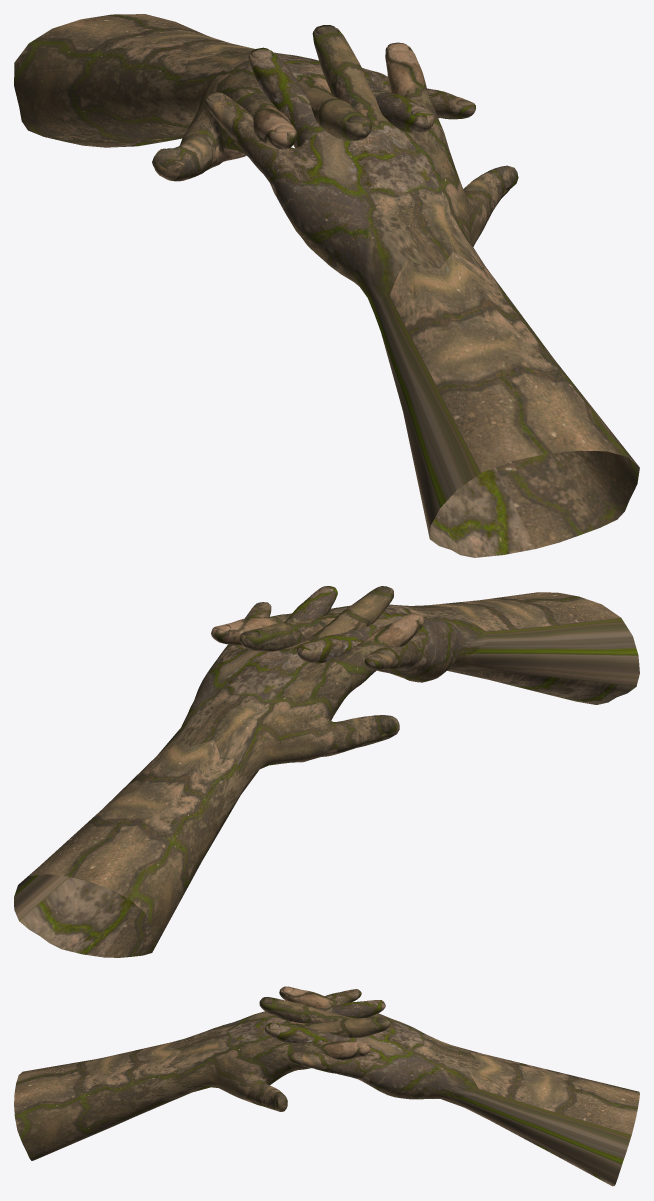
Rendered from hands_000002.obj.
3 views of the same model, one above another, from view 1: azimuth 30°, elevation 25°; view 2: azimuth 150°, elevation 25°; view 3: azimuth 270°, elevation 25° (orthographic). The views are drawn at different scales.
Parts seen in each view (by area): view 1: hand.001_Mesh.001, hand_Mesh; view 2: hand_Mesh, hand.001_Mesh.001; view 3: hand_Mesh, hand.001_Mesh.001.
Boxes of the visible parts, <box> form: hand.001_Mesh.001: <box>204,25,639,557</box>; hand_Mesh: <box>14,14,475,181</box>; hand_Mesh: <box>14,586,424,957</box>; hand.001_Mesh.001: <box>211,592,639,704</box>; hand_Mesh: <box>259,986,639,1186</box>; hand.001_Mesh.001: <box>14,989,390,1160</box>.
Bounding box in the file's own units: 1.58 × 1.4 × 5.02.
1 material, 1 textured.
